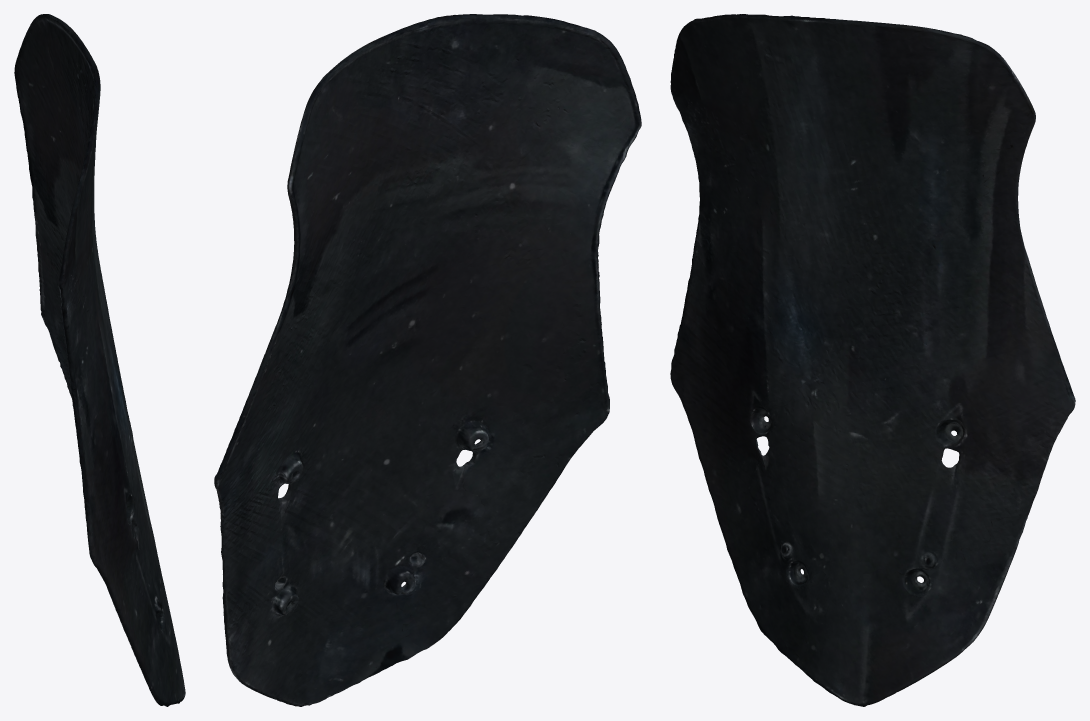
Rendered from SPD-43211X-B.obj.
The picture shows the model from 3 angles, left to right: view 1: azimuth 30°, elevation 25°; view 2: azimuth 150°, elevation 25°; view 3: azimuth 270°, elevation 25°; orthographic projection. The views are drawn at different scales.
Visible parts, largest first — view 1: SPD-43211X-B; view 2: SPD-43211X-B; view 3: SPD-43211X-B.
Part boxes in pixels (x1,y1,x2,y2): SPD-43211X-B: [14, 14, 185, 706]; SPD-43211X-B: [214, 14, 641, 706]; SPD-43211X-B: [670, 14, 1075, 706].
Bounding box in the file's own units: 220 × 601 × 345.
Materials: 1 (1 with a texture image).
